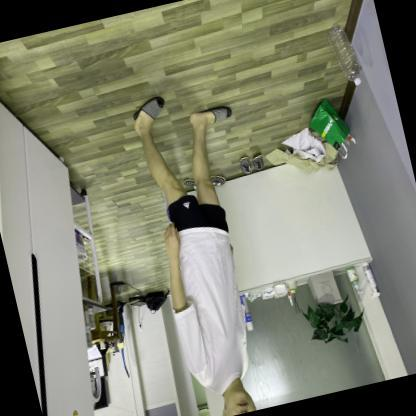no_safety-shoe: (124, 83, 176, 135), (182, 93, 242, 134)
